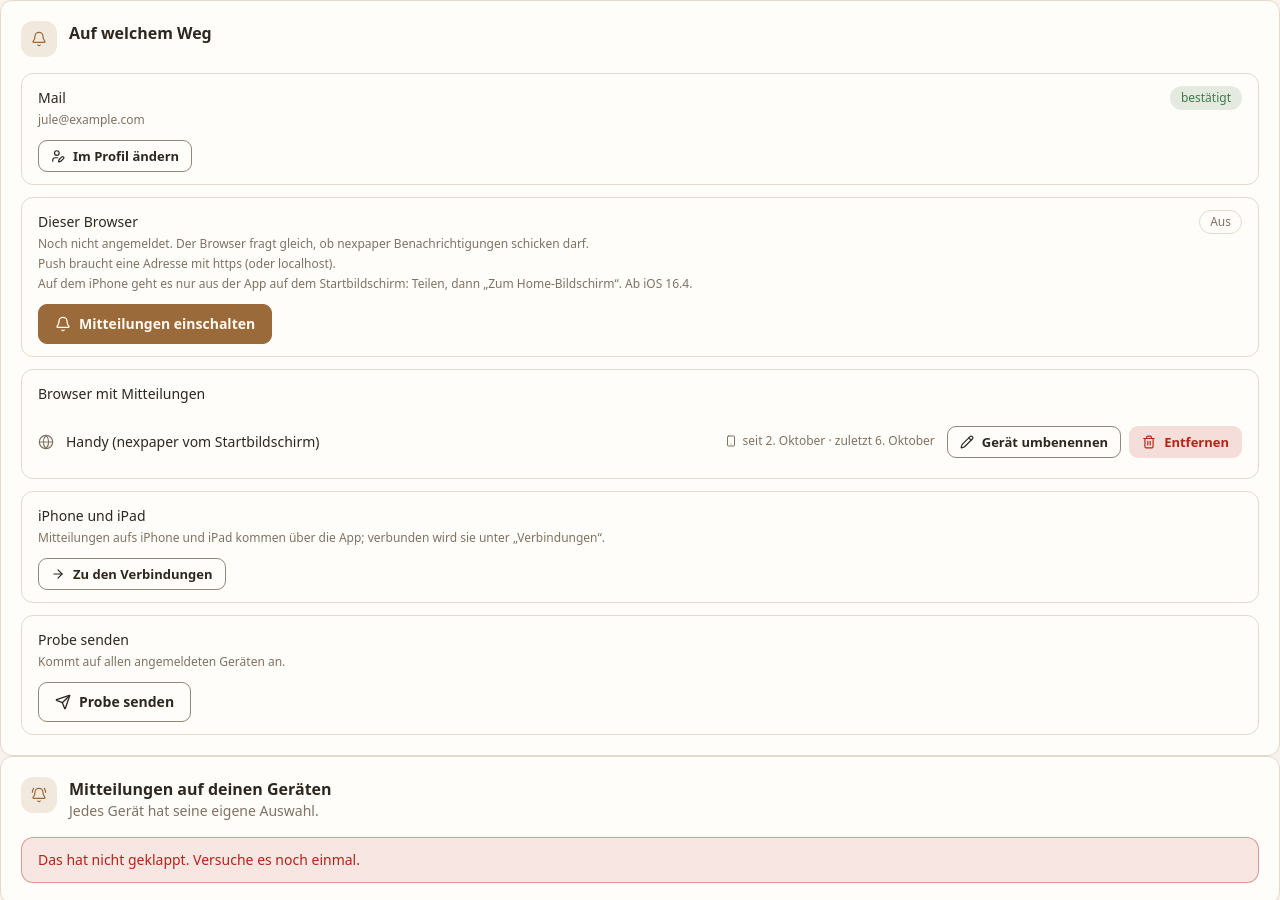
Scenario: the devices, in "Auf welchem Weg" › tells when the person refuses the permission and sends nothing
The width and height of the screenshot is (1280, 900).
Click the button with test id "notify-browser-on" at (155, 324), box [38, 304, 272, 344]
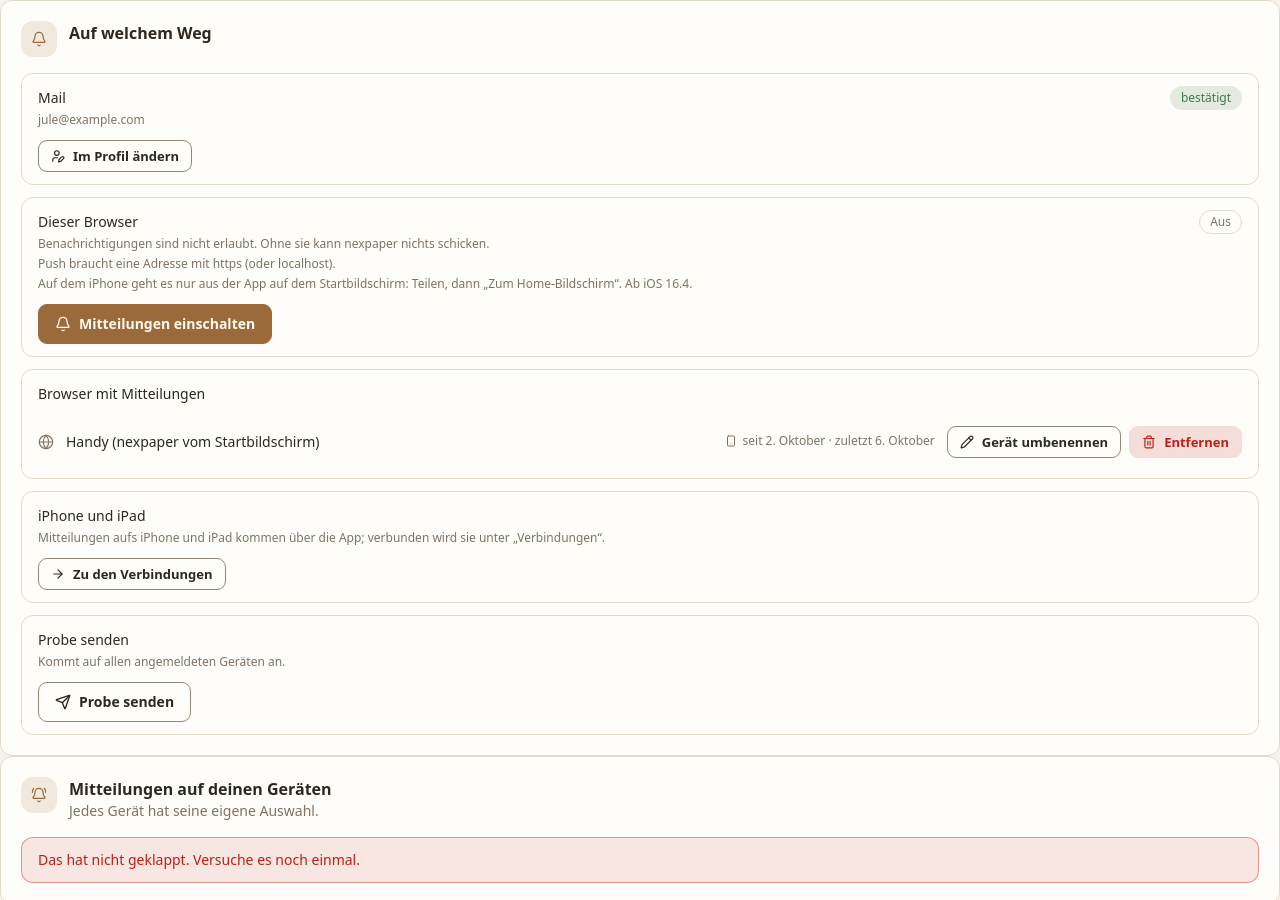
expect the text "Benachrichtigungen sind nicht erlaubt." is shown: met, box [38, 235, 489, 252]
